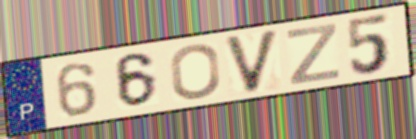5: (345, 10, 397, 78)
6: (112, 51, 160, 110), (53, 60, 101, 118)
O: (168, 42, 223, 102)
V: (221, 27, 282, 96)
Z: (284, 21, 341, 87)
